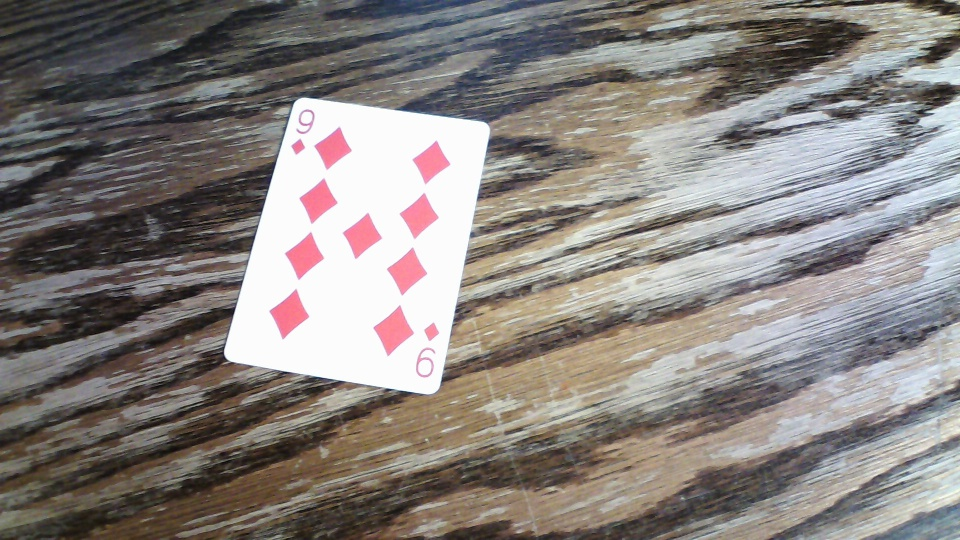nine: (225, 96, 490, 396)
